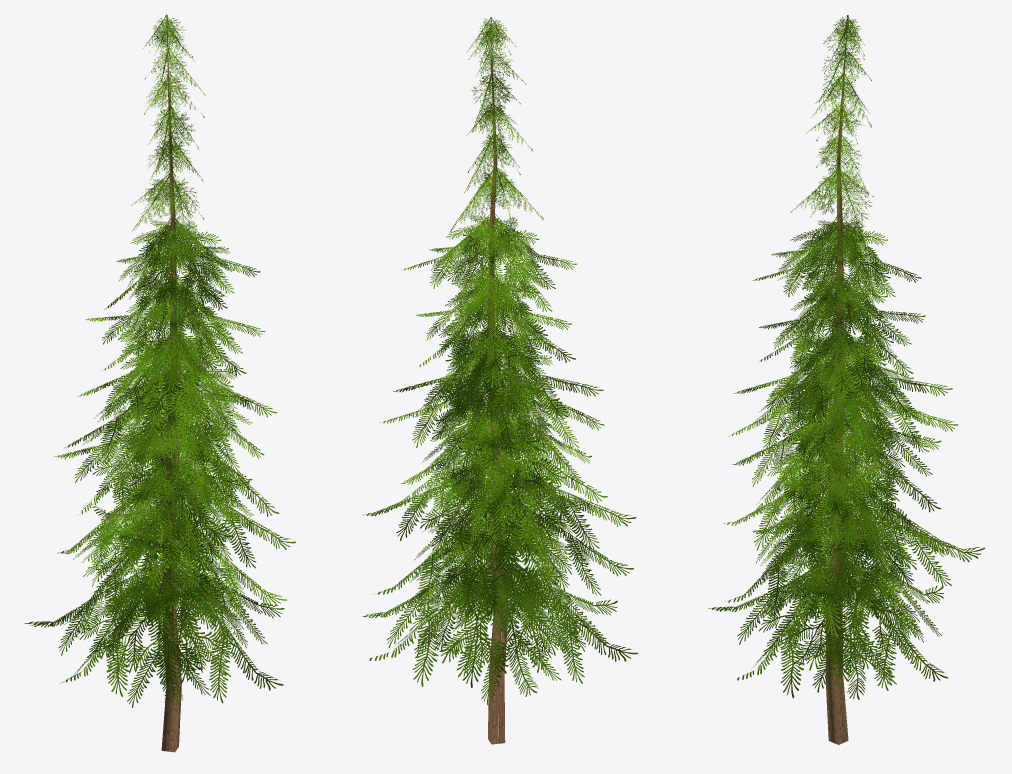
File: spruce_trees.005.glb
3 renders of one model, left to right at view 1: azimuth 30°, elevation 25°; view 2: azimuth 150°, elevation 25°; view 3: azimuth 270°, elevation 25°, orthographic.
Parts seen in each view (by area): view 1: spruce_trees.005; view 2: spruce_trees.005; view 3: spruce_trees.005.
Boxes of the visible parts, x1,y1,x2,y2 form: spruce_trees.005: (24,14,295,752); spruce_trees.005: (362,17,637,744); spruce_trees.005: (708,15,984,744).
Size of the model in its own units: 4.01 by 10.24 by 3.93.
Materials: 2 (2 with a texture image).
